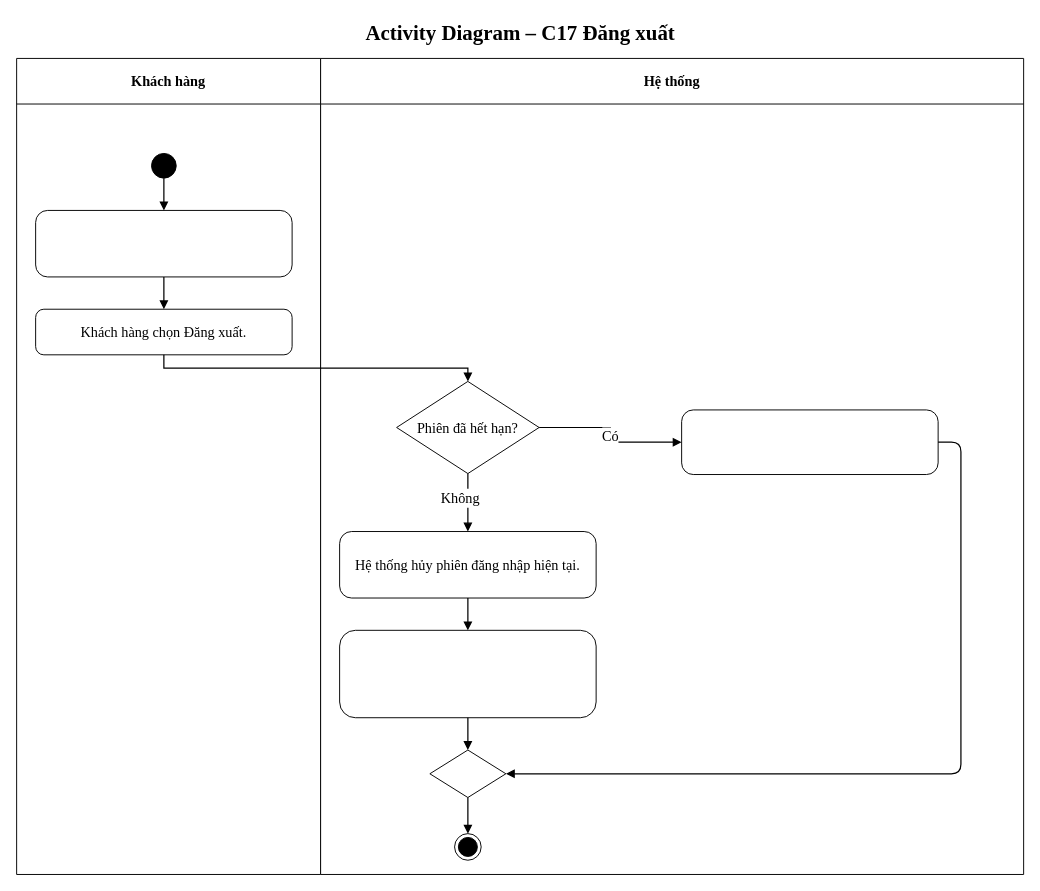
This 1040x891 diagram has some shape labels left out. The shapes that lost their labels are listed below. From the top down, each one's box as (x1, y1, x2, y2) in pixels, then its label:
(35, 209, 292, 277): Khách hàng mở menu tài khoản.
(681, 409, 938, 475): Đưa về trạng thái chưa đăng nhập, không cần thao tác thêm
(339, 629, 596, 718): Hệ thống cập nhật giao diện sang trạng thái chưa đăng nhập.
